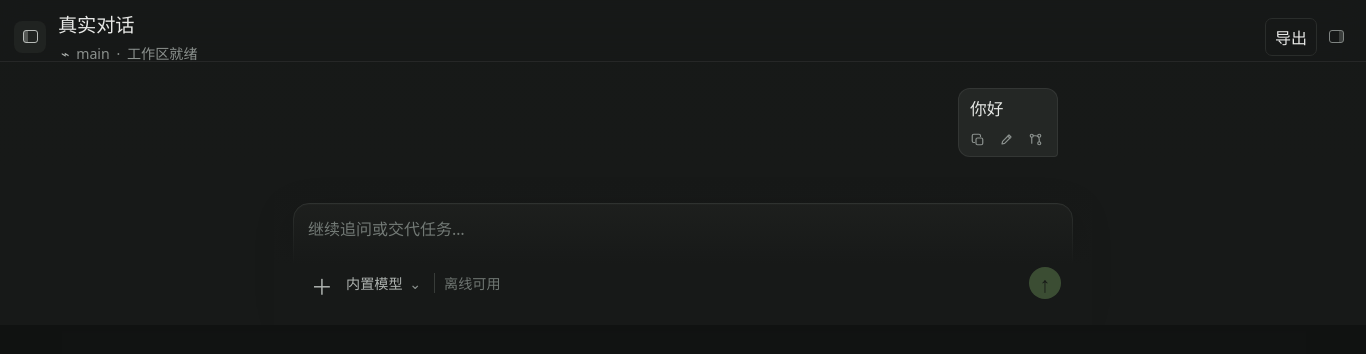
Test: conversation timeline projection › appends files to the current attachment selection instead of replacing it
Click the button named "添加上下文文件": (319, 283) [305, 269, 333, 297]
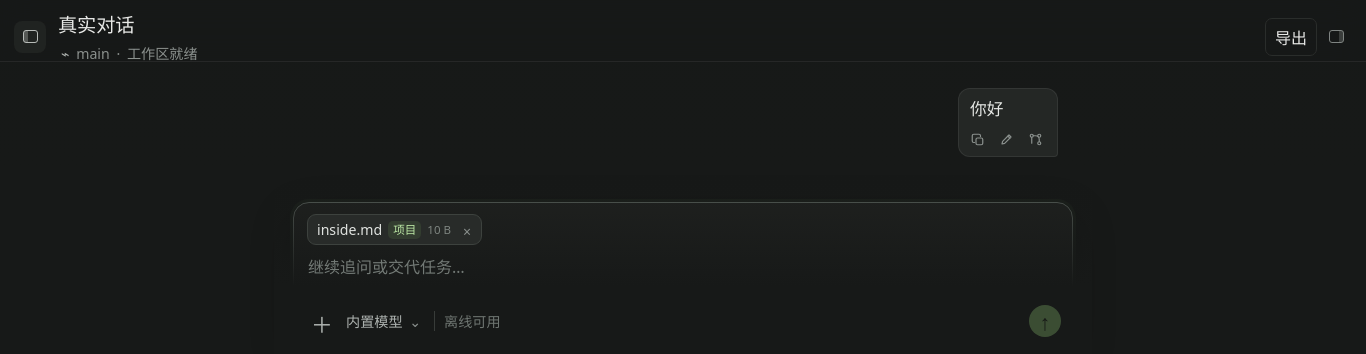
Expected: the text "inside.md" is shown, [317, 220, 382, 239]
Click the button named "添加上下文文件": (319, 321) [305, 307, 333, 335]
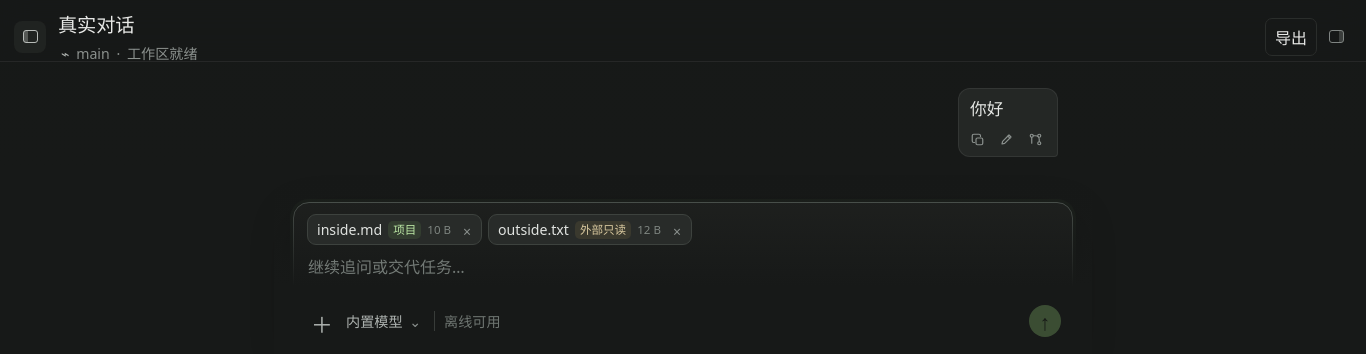
Expected: the element named "已添加上下文" shows "inside.md", [317, 220, 382, 239]
Expected: the text "outside.txt" is shown, [498, 220, 569, 239]
